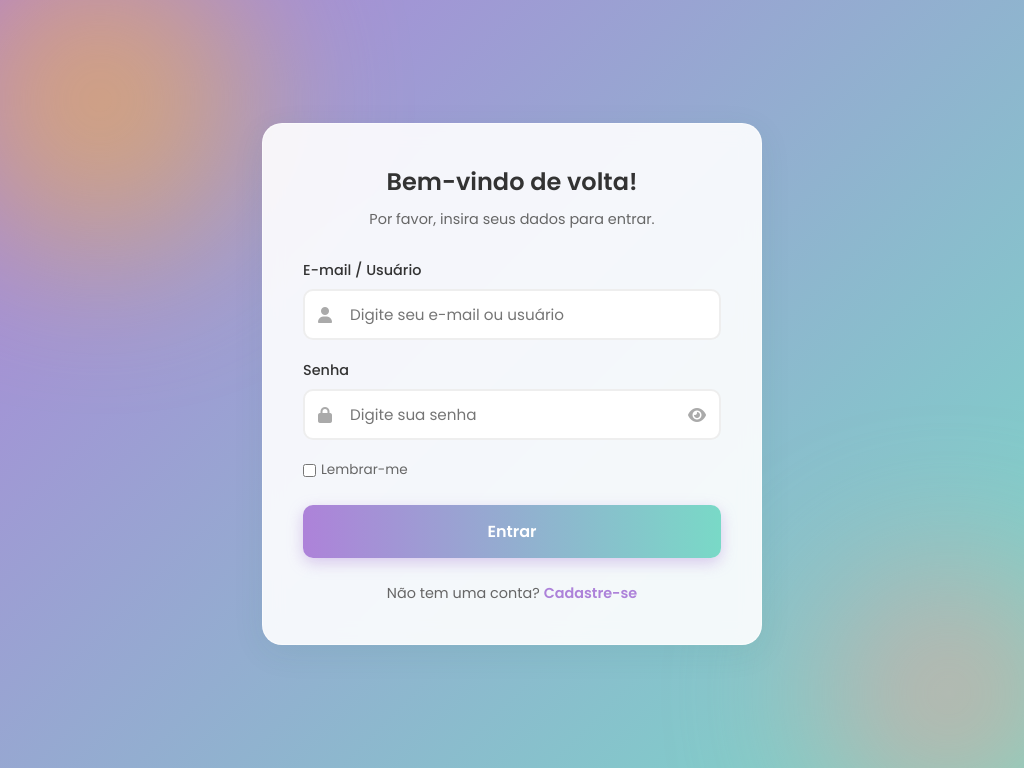
Test: Login - Fluxo de Autenticação › deve exibir erro quando as credenciais são inválidas (401)
Type "wrong@example.com" into the field with placeholder "Digite seu e-mail ou usuário". click: (512, 314)
box: [303, 289, 721, 340]
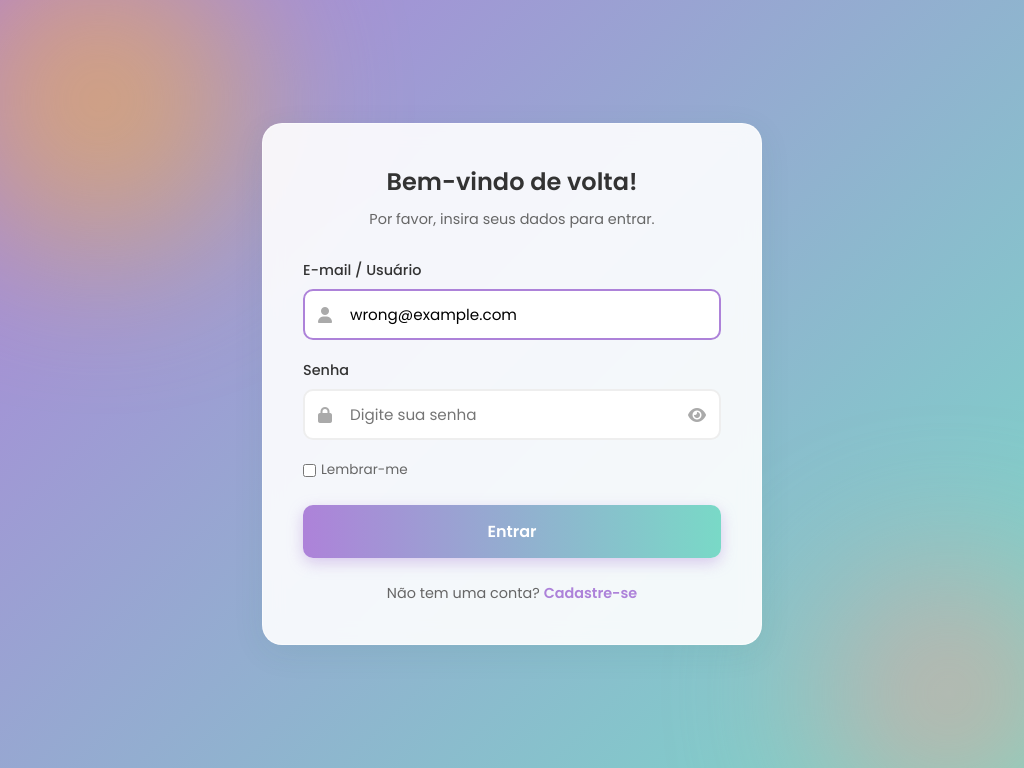
Type "wrongpassword" into the password field with placeholder "Digite sua senha". click: (512, 414)
box: [303, 389, 721, 440]
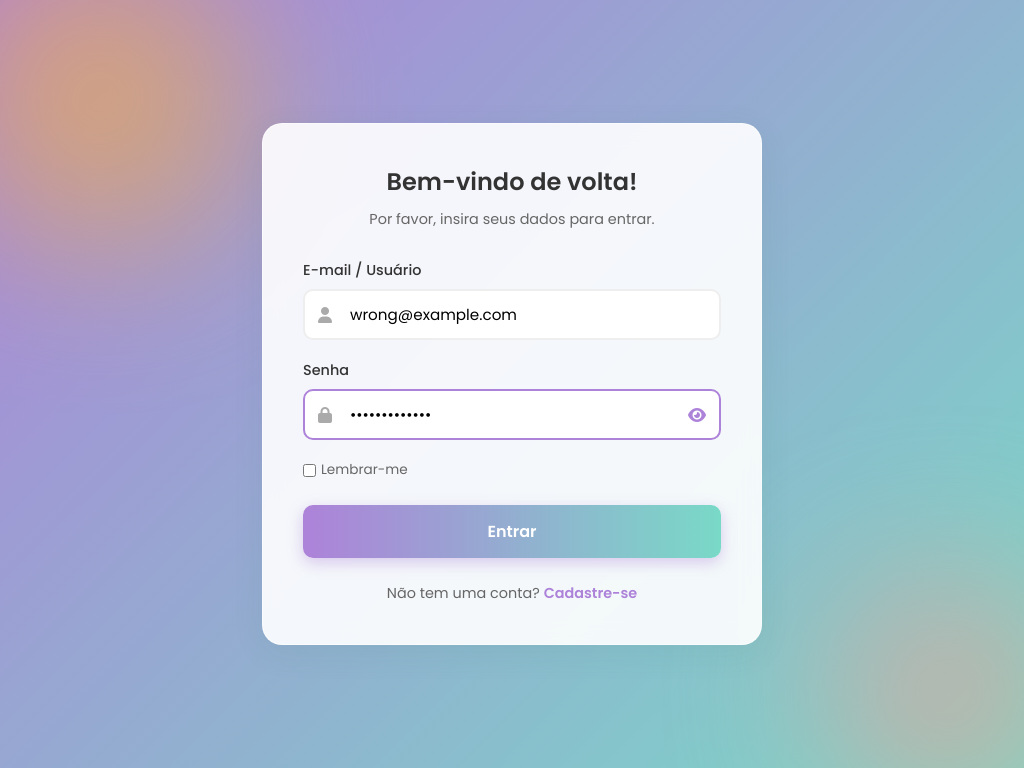
Click the button "Entrar". click: (512, 532)
box: [303, 505, 721, 558]
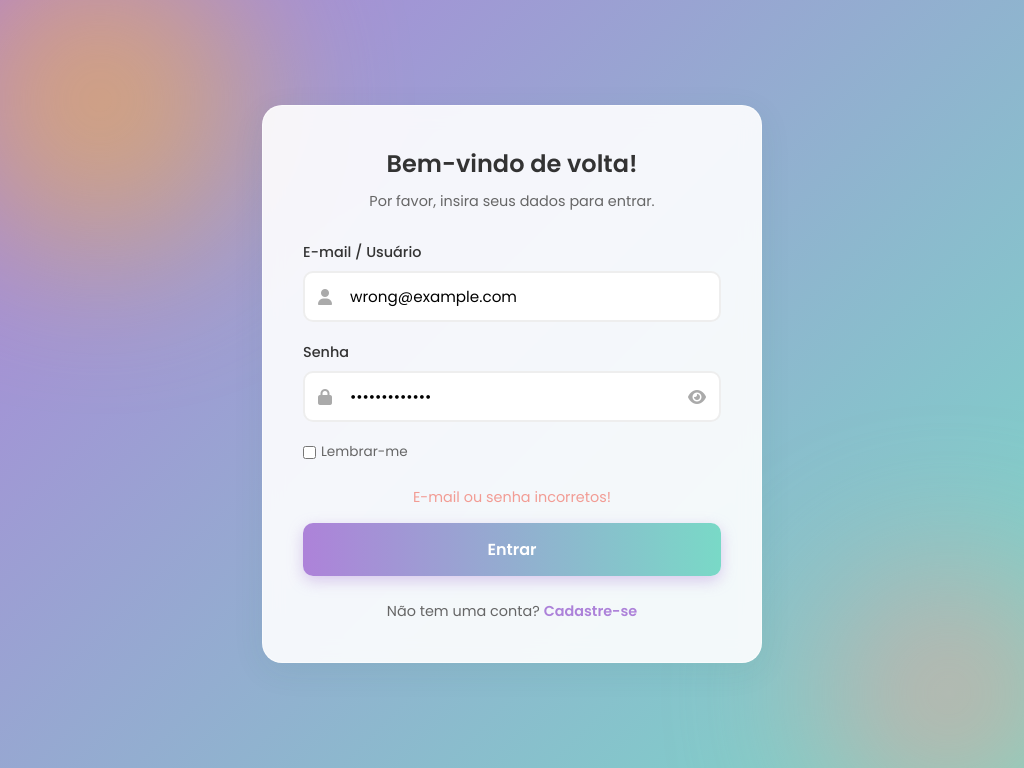
Result: the text "E-mail ou senha incorretos!" is shown at [413, 487, 611, 507]
